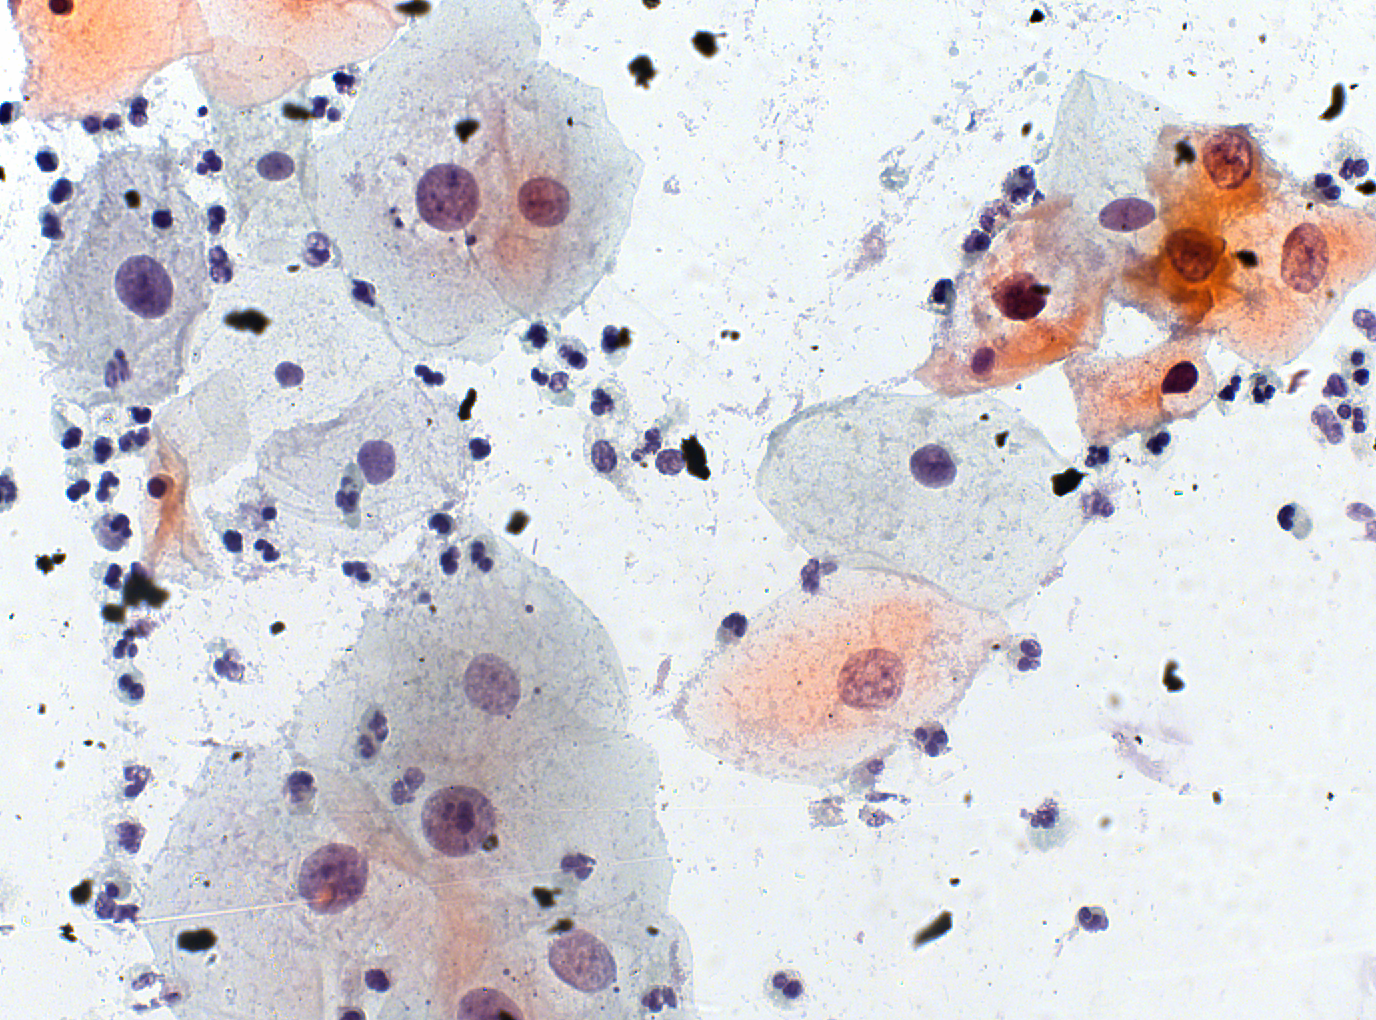Abn: (421, 784, 499, 860), (295, 838, 369, 915), (833, 645, 910, 712), (414, 162, 483, 235), (545, 926, 618, 994), (113, 252, 176, 322), (461, 652, 523, 718), (1280, 221, 1330, 294), (1166, 227, 1228, 284), (513, 175, 573, 230), (991, 267, 1047, 322), (1201, 136, 1252, 192)
